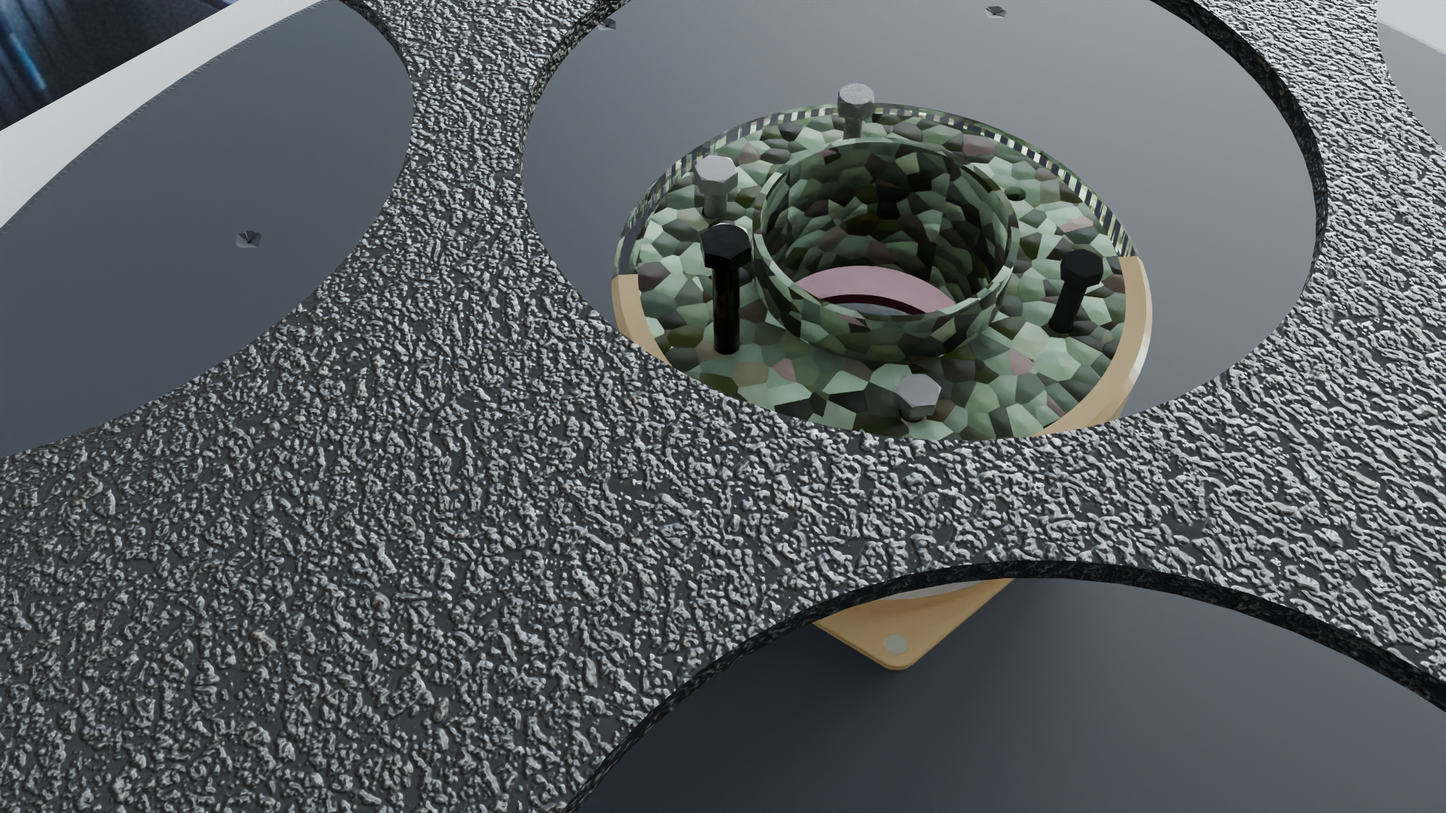bolt: (700, 223, 751, 260), (895, 373, 941, 407), (694, 156, 738, 184), (1064, 248, 1103, 279), (838, 84, 874, 109)
